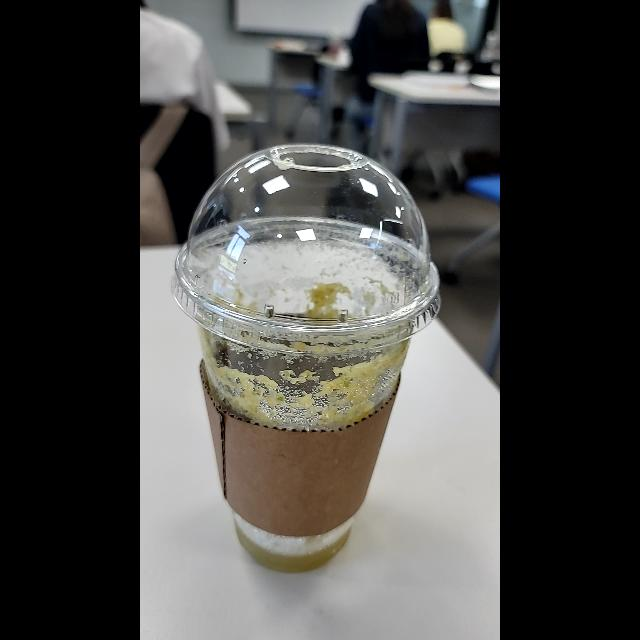plastic_cup: (172, 134, 446, 584)
plastic_cup_lid: (174, 141, 444, 351)
